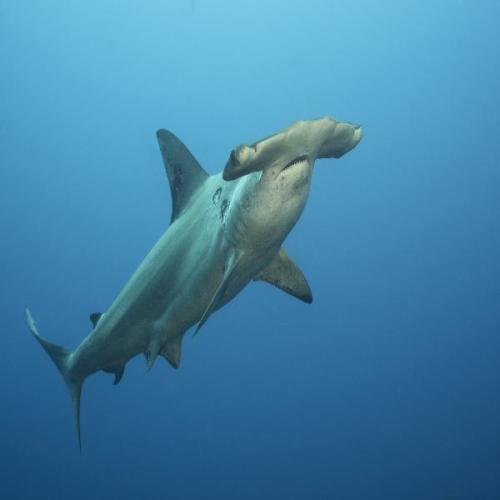shark-endangered: (24, 122, 365, 450)
